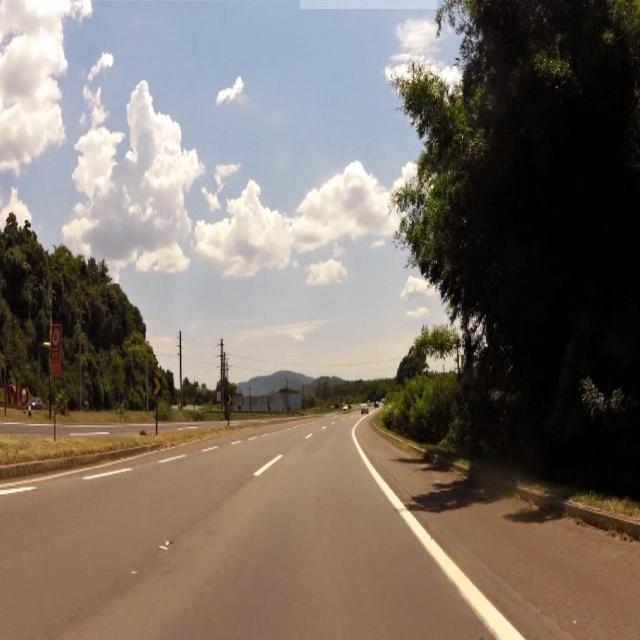Del: (152, 379, 162, 397), (224, 392, 234, 410)
